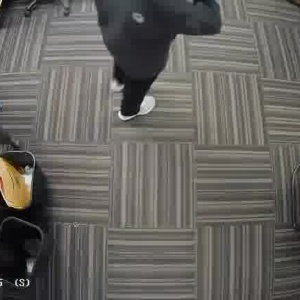person: (107, 0, 186, 118)
